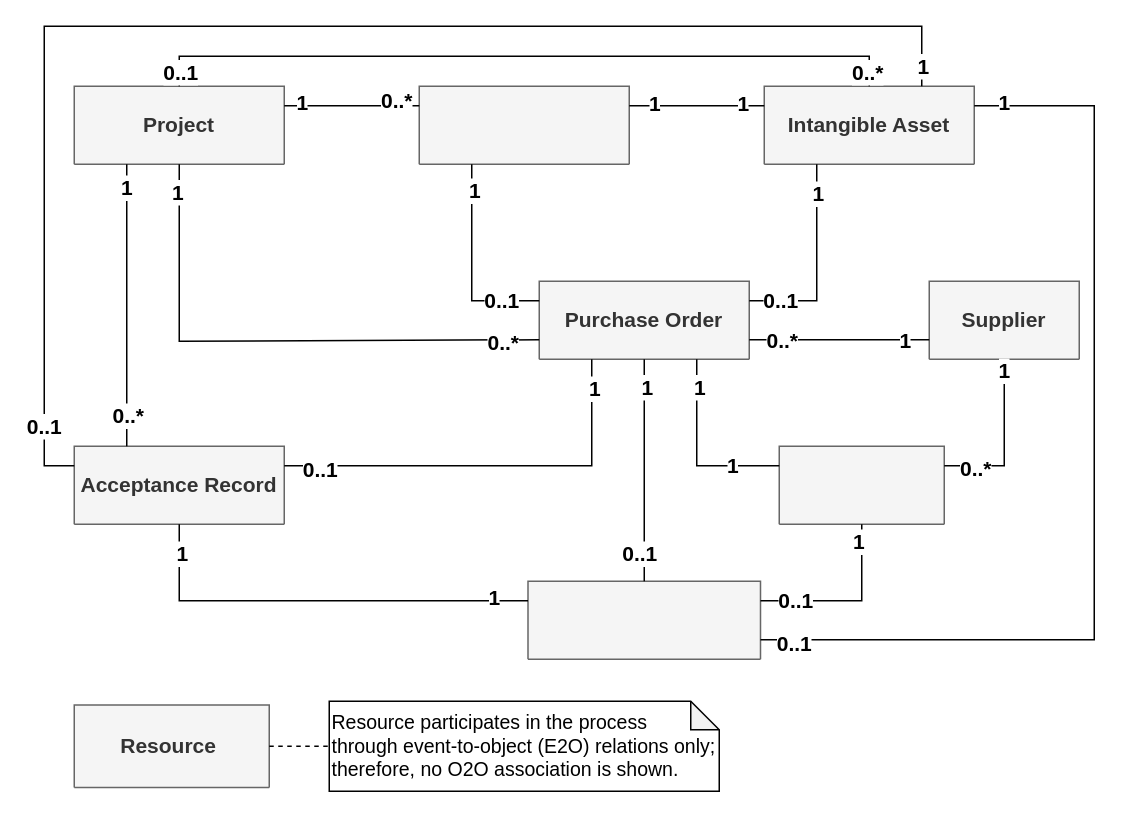
Image size: 1122x818. Some labels were removed from this diagram. The box of each missing label's shape, as (x1, y1, x2, y2) in pixels:
Accounting Voucher: (526, 580, 760, 659)
Invoice: (778, 445, 944, 524)
Requirement: (418, 85, 629, 164)
